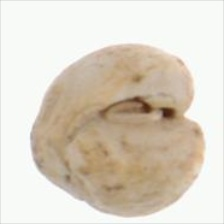L3: (96, 84, 200, 125)
L4: (29, 43, 205, 217)
